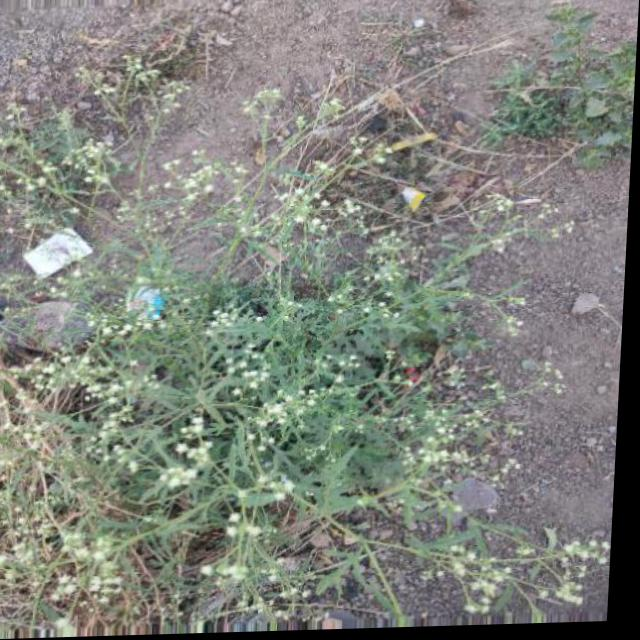weed: (0, 99, 583, 640)
